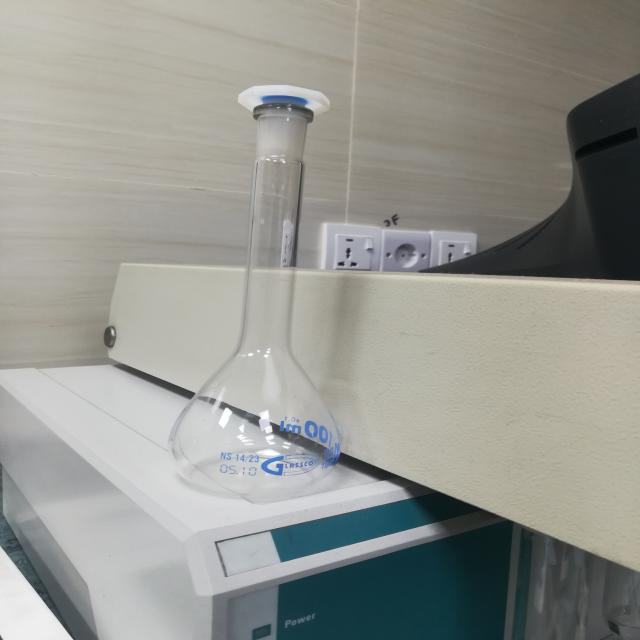Volumetric_Flask: (164, 52, 385, 510)
